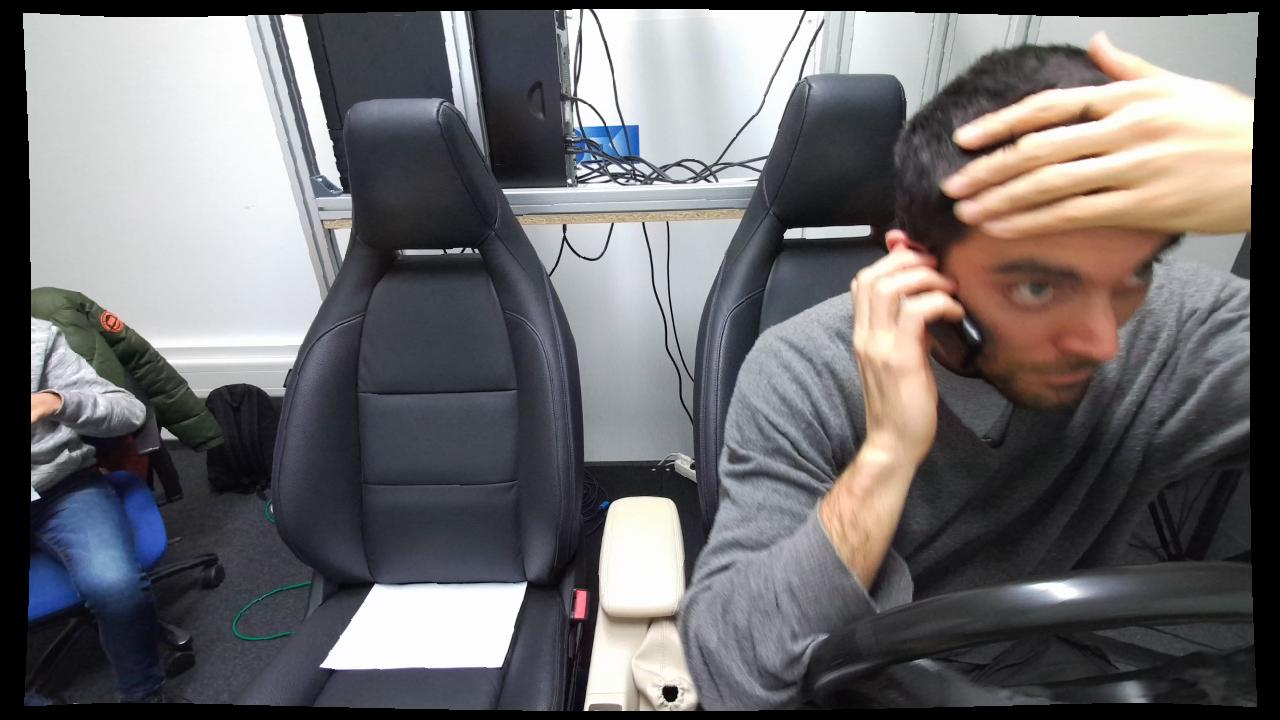Distracted: (676, 26, 1255, 709)
PhoneUse: (891, 253, 991, 404)
